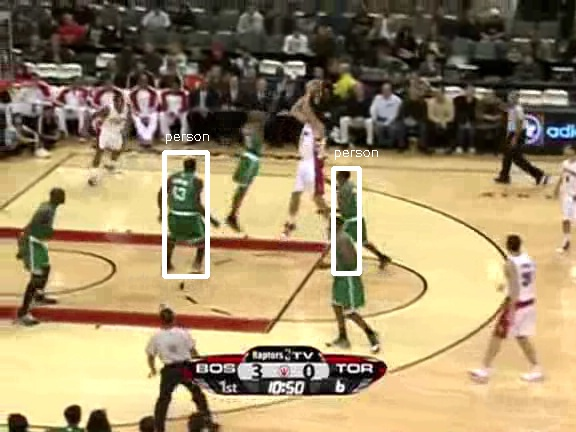person: (333, 176, 367, 257), (332, 176, 366, 257), (334, 176, 368, 257), (333, 175, 367, 256), (333, 177, 367, 258)
target_negative: (316, 68, 572, 209), (306, 193, 526, 318), (157, 238, 465, 312), (244, 7, 265, 258), (368, 83, 479, 126), (557, 354, 569, 397)
